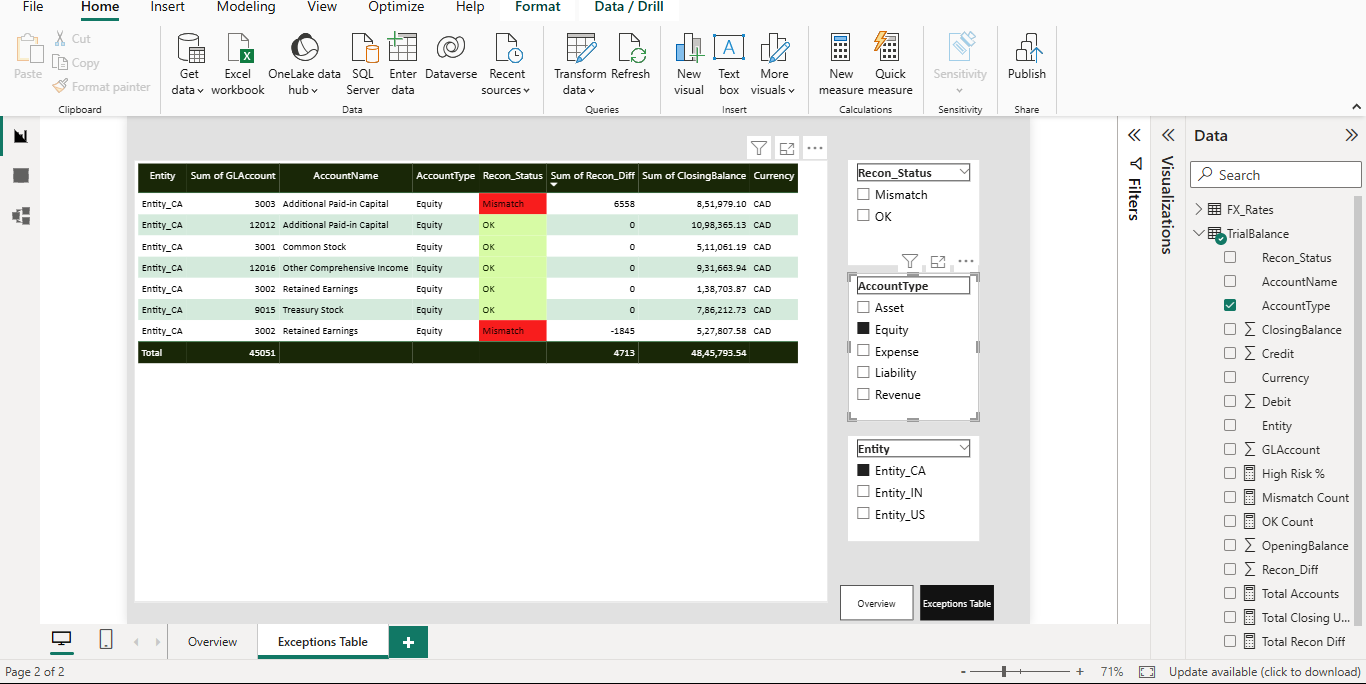

The dashboard page shown, as its layout file describes it:
{"tool":"powerbi","page":{"name":"Exceptions Table","canvas":[1280,720],"ordinal":1},"visuals":[{"type":"tableEx","fields":{"Values":["TrialBalance.Entity","Sum(TrialBalance.GLAccount)","TrialBalance.AccountName","TrialBalance.AccountType","TrialBalance. Recon_Status","Sum(TrialBalance.Recon_Diff)","Sum(TrialBalance.ClosingBalance)","TrialBalance.Currency"]},"box":[10.1,62.1,983.1,627.4],"z":0},{"type":"slicer","fields":{"Values":["TrialBalance. Recon_Status"]},"box":[1021.7,62.1,186.2,149.3],"z":1},{"type":"slicer","fields":{"Values":["TrialBalance.AccountType"]},"box":[1021.7,223.1,186.2,209.7],"z":2},{"type":"slicer","fields":{"Values":["TrialBalance.Entity"]},"box":[1021.7,452.9,186.2,149.3],"z":3},{"type":"pageNavigator","box":[1009.9,664.3,219.8,50.3],"z":4}]}

Visuals, with their boxes on the page's 1280x720 design canvas (x1, y1, x2, y2). These are canvas units, not pixel positions in the 1366x684 screenshot, which may show the page scaled, cropped or inside an application window:
tableEx - TrialBalance.Entity x Sum(TrialBalance.GLAccount): (left=10, top=62, right=993, bottom=690)
slicer - TrialBalance. Recon_Status: (left=1022, top=62, right=1208, bottom=211)
slicer - TrialBalance.AccountType: (left=1022, top=223, right=1208, bottom=433)
slicer - TrialBalance.Entity: (left=1022, top=453, right=1208, bottom=602)
pageNavigator: (left=1010, top=664, right=1230, bottom=715)
